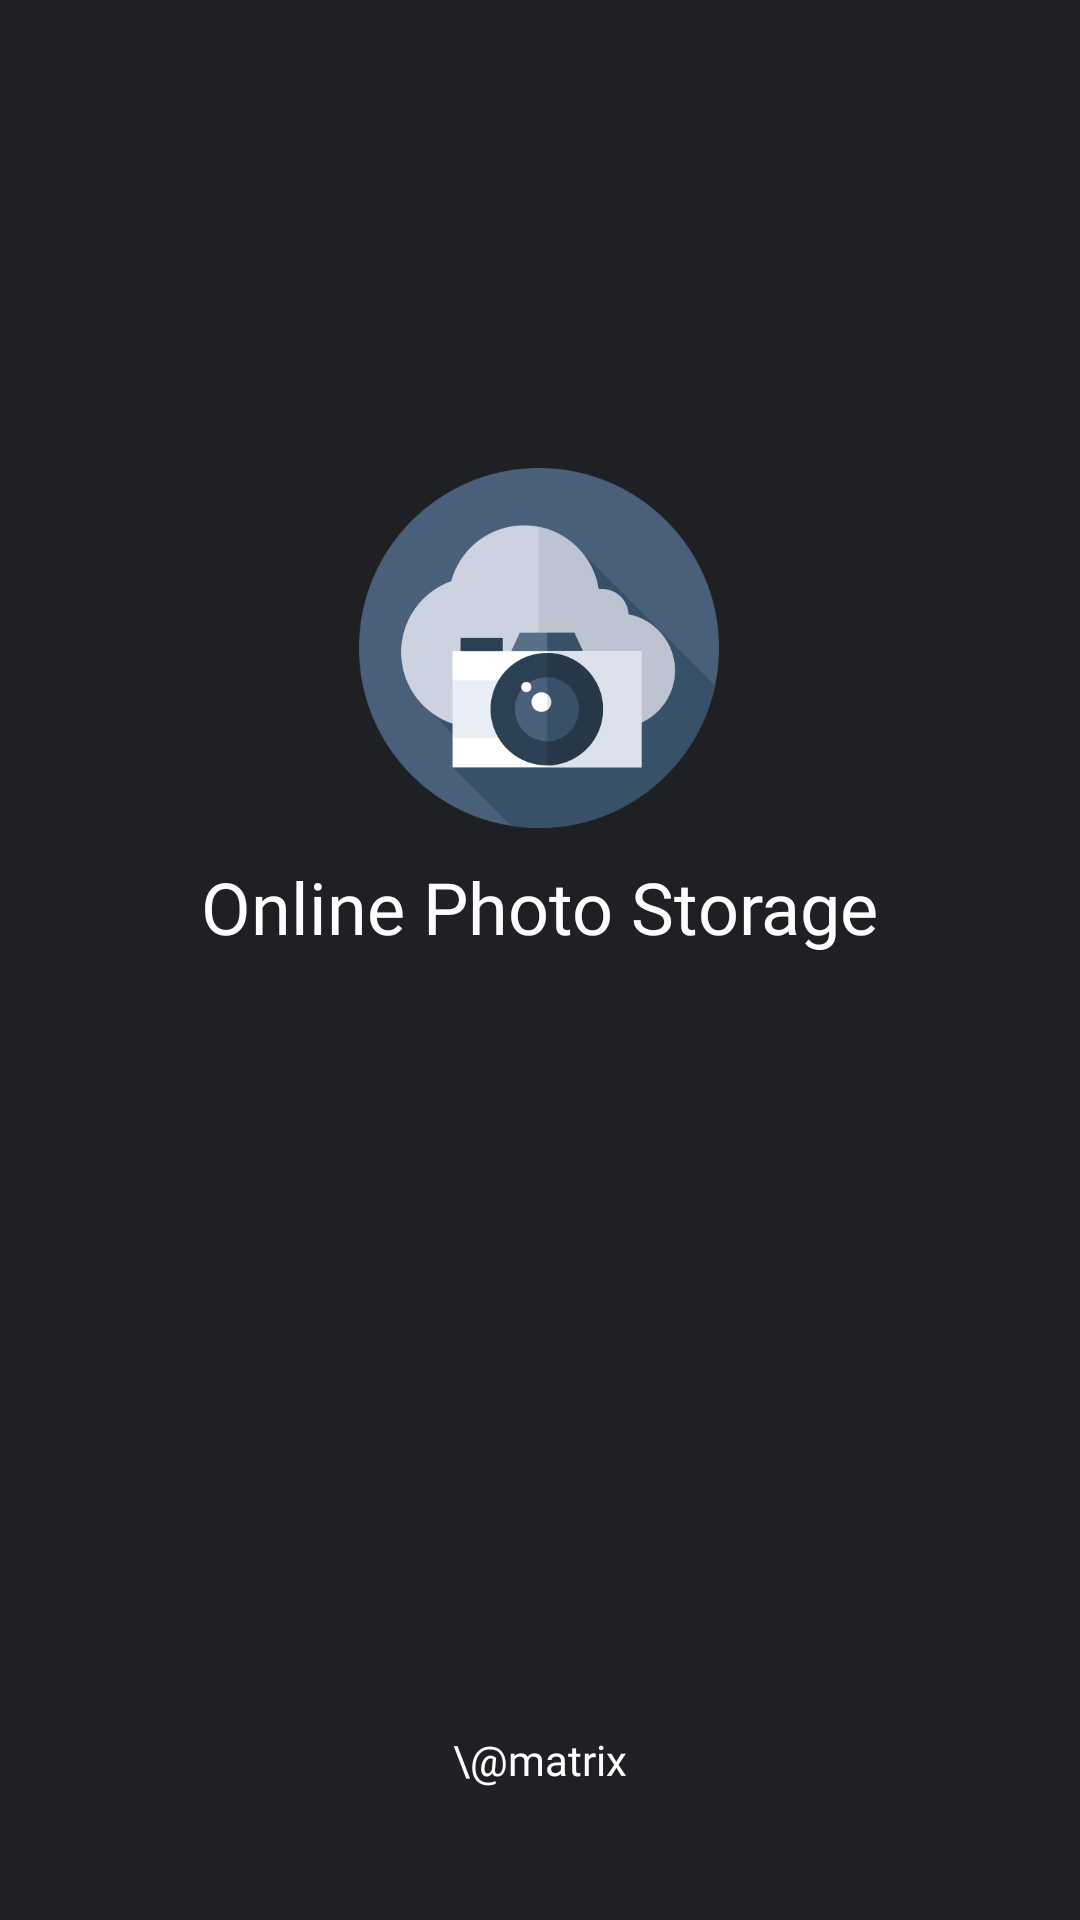

Locate icon controls on the screen. Image size 1080×1920, boxes as (x1, y1, x2, y2).
cloud: (359, 468, 719, 828)
